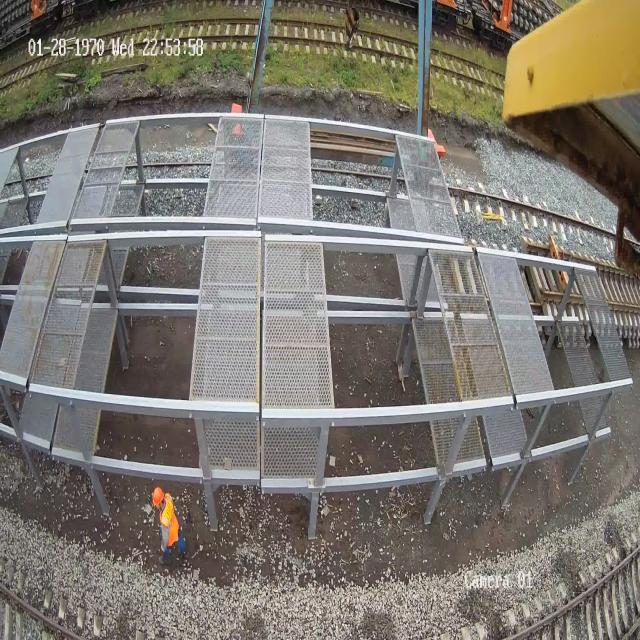Helmet: (152, 486, 164, 506)
Person: (152, 486, 187, 565)
